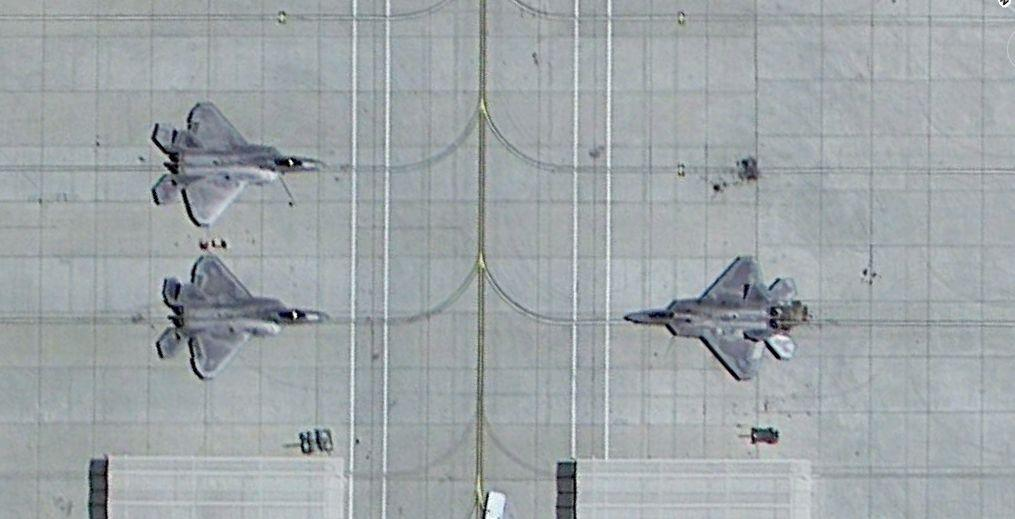F-22: (614, 255, 818, 386), (138, 94, 327, 225), (148, 256, 336, 380)
